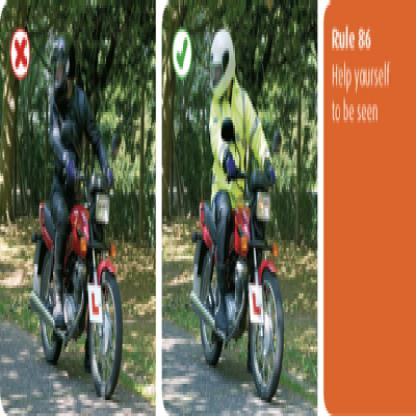With Helmet: (49, 27, 77, 104), (207, 22, 236, 94)
